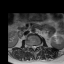CCS_normal: (33, 44, 34, 52)
LFS_normal: (36, 42, 38, 49)
LLS_normal: (34, 44, 36, 50)
RFS_normal: (29, 43, 31, 49)
RLS_stenosis: (31, 43, 33, 50)
